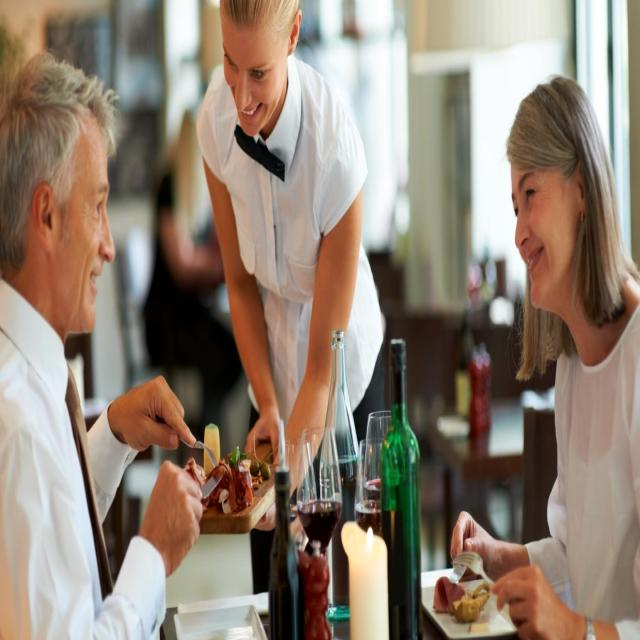person: (2, 54, 207, 640), (183, 6, 418, 482), (459, 84, 640, 638)
